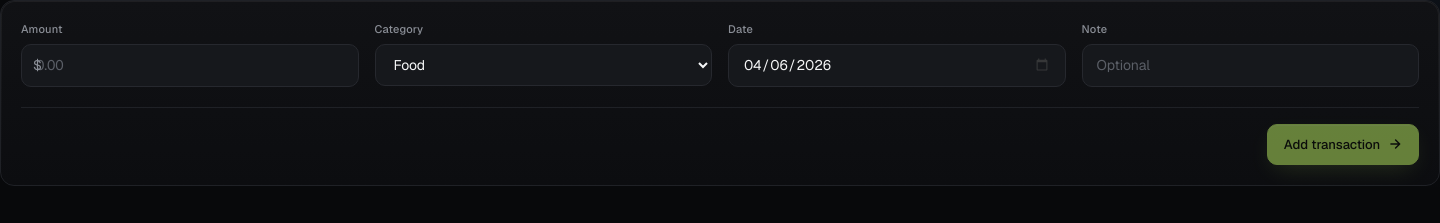
Test: ExpenseForm › shows validation error for negative amount on blur
Type "-5" into the number field labelled "Amount".
click(190, 65); type("-5")  # box [21,44,358,86]
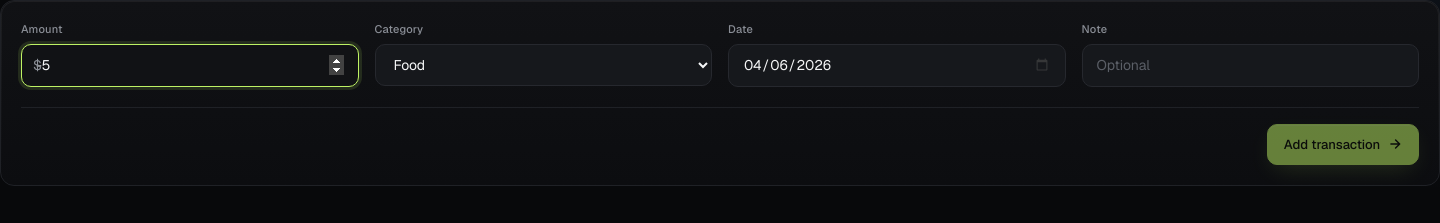
Press Tab
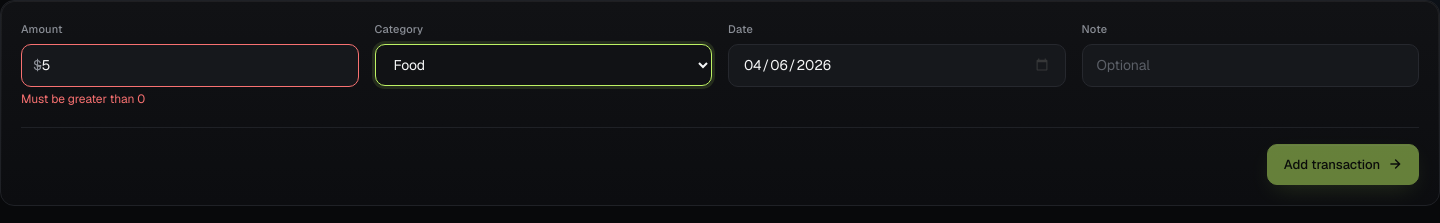
Check: the text "Must be greater than 0" is shown, box [21,90,145,106]
